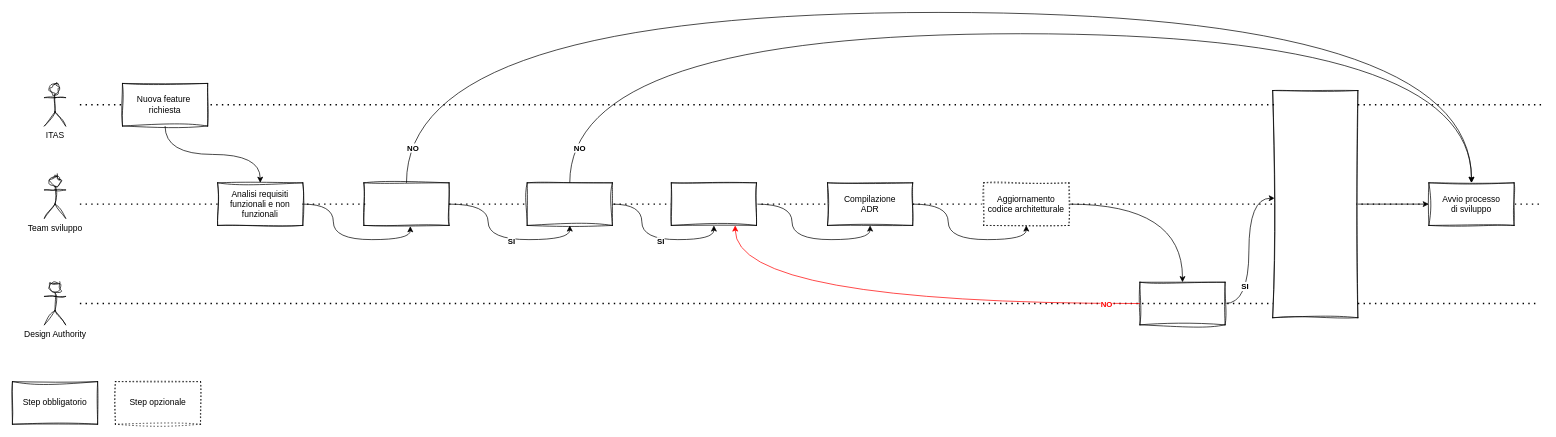
The diagram is 1556 pixels wide and 437 high, and some of its shapes have lost their labels. The shapes that lost their labels are listed below. From the top down, each one's box as (x1, y1, x2, y2) in pixels, then its label:
(363, 182, 449, 225): Ci sono impatti architetturali?
(526, 182, 612, 225): E' necessaria l'aggiunta di un nuovo componente?
(671, 182, 757, 225): Valutazione impatti e posizionamento nuovo componente
(1272, 90, 1358, 318): Presa visione e validazione documentazione prodotta
(1139, 282, 1225, 325): Proposte e valutazione impatti sono corretti?
